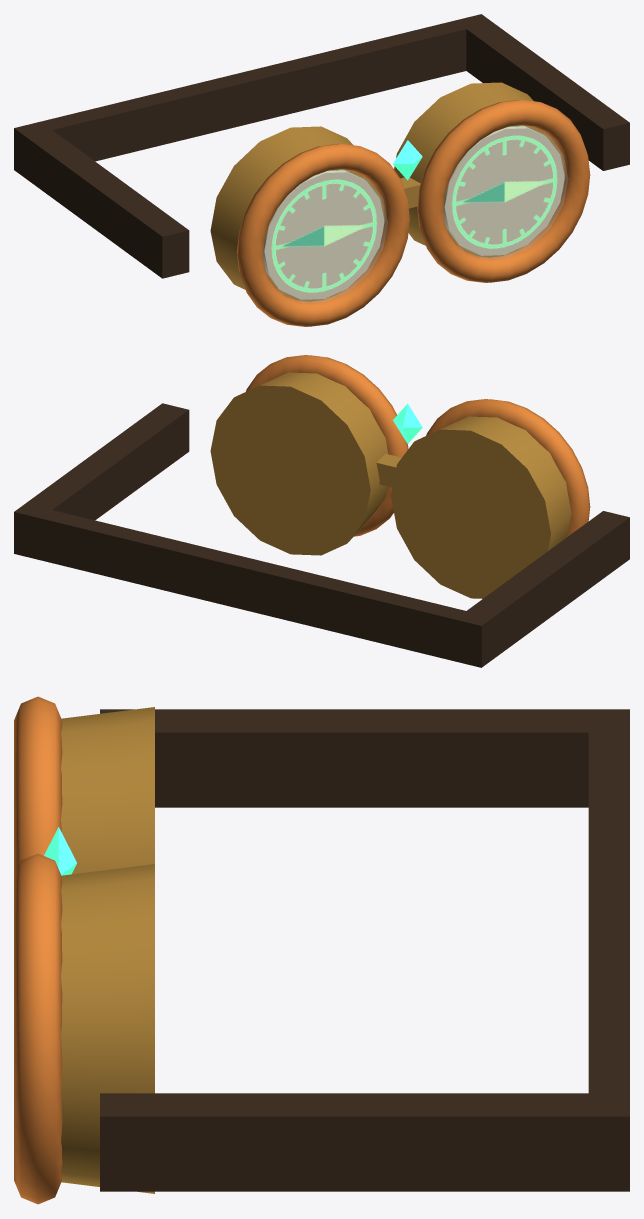
File: gl_eqsa3.glb
3 views of the same model, one above another, from view 1: azimuth 30°, elevation 25°; view 2: azimuth 150°, elevation 25°; view 3: azimuth 270°, elevation 25° (orthographic). The views are drawn at different scales.
Size of the model in its own units: 2.16 by 0.7854 by 1.38.
7 materials, 2 textured.
